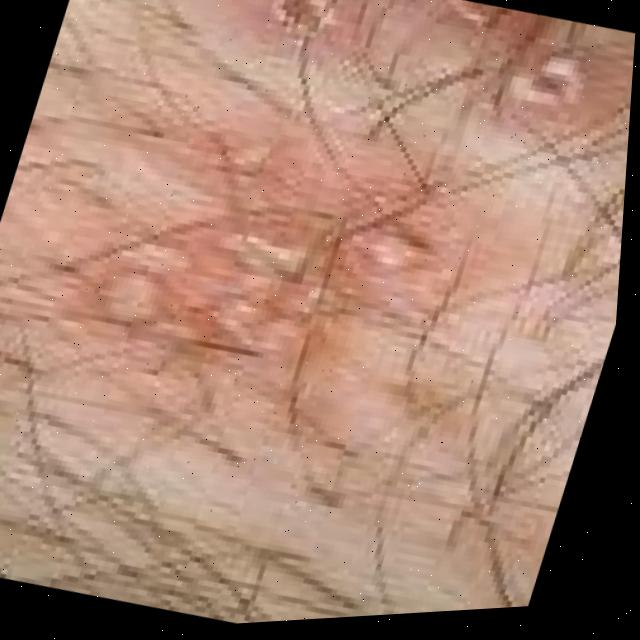Shingles: (88, 158, 419, 394), (498, 43, 590, 121), (258, 0, 344, 38)
